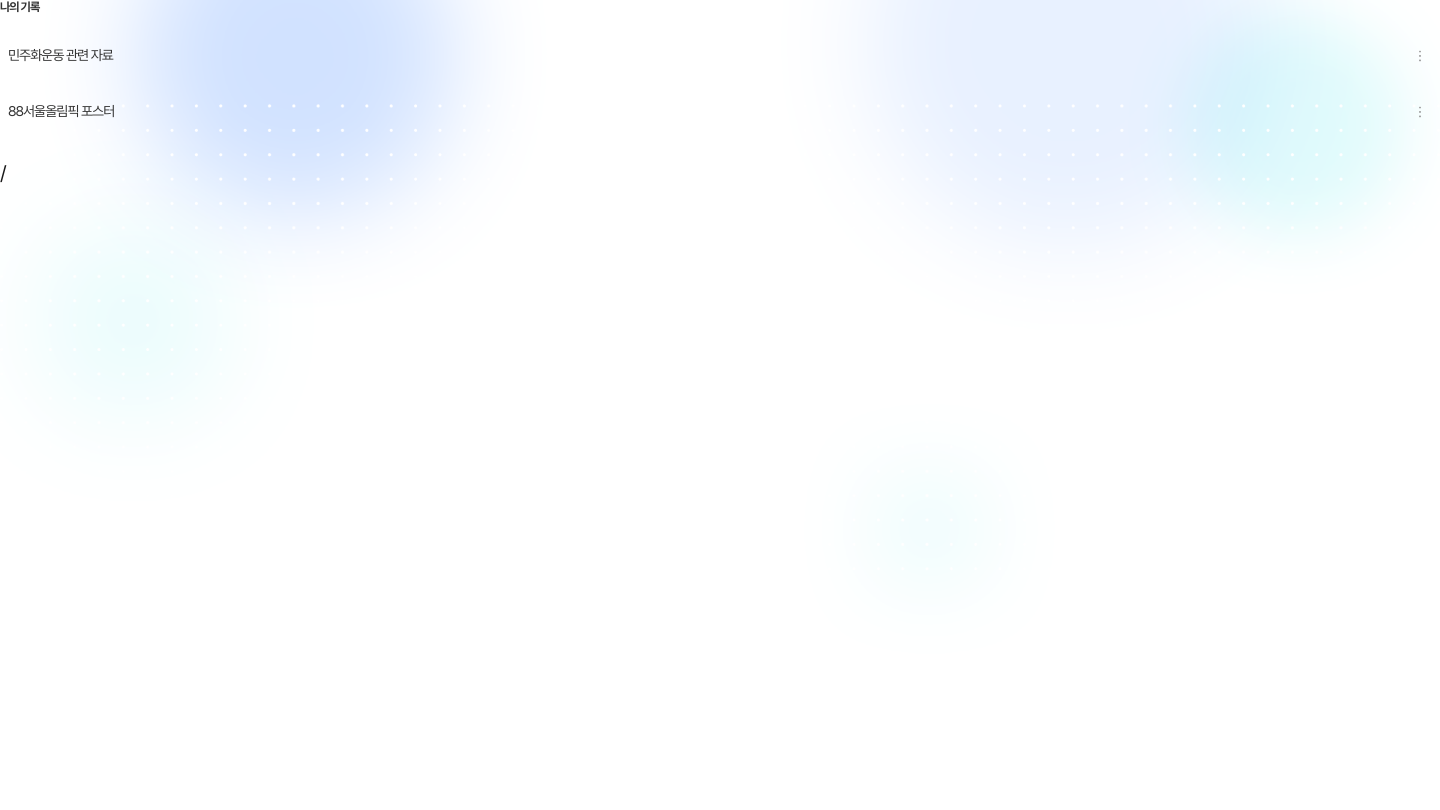
(c) 케밥 '라이브러리 저장' 클릭 시 저장 모달이 열린다(round10 — 더는 준비중 스텁이 아니다)
Expected: the text "민주화운동 관련 자료" is shown, [8,47,113,63]
What coordinates should you click on to do the following:
click the 1st button named "더보기"
I would click on:
 (1420, 56)
Its box is [1408,44,1432,68].
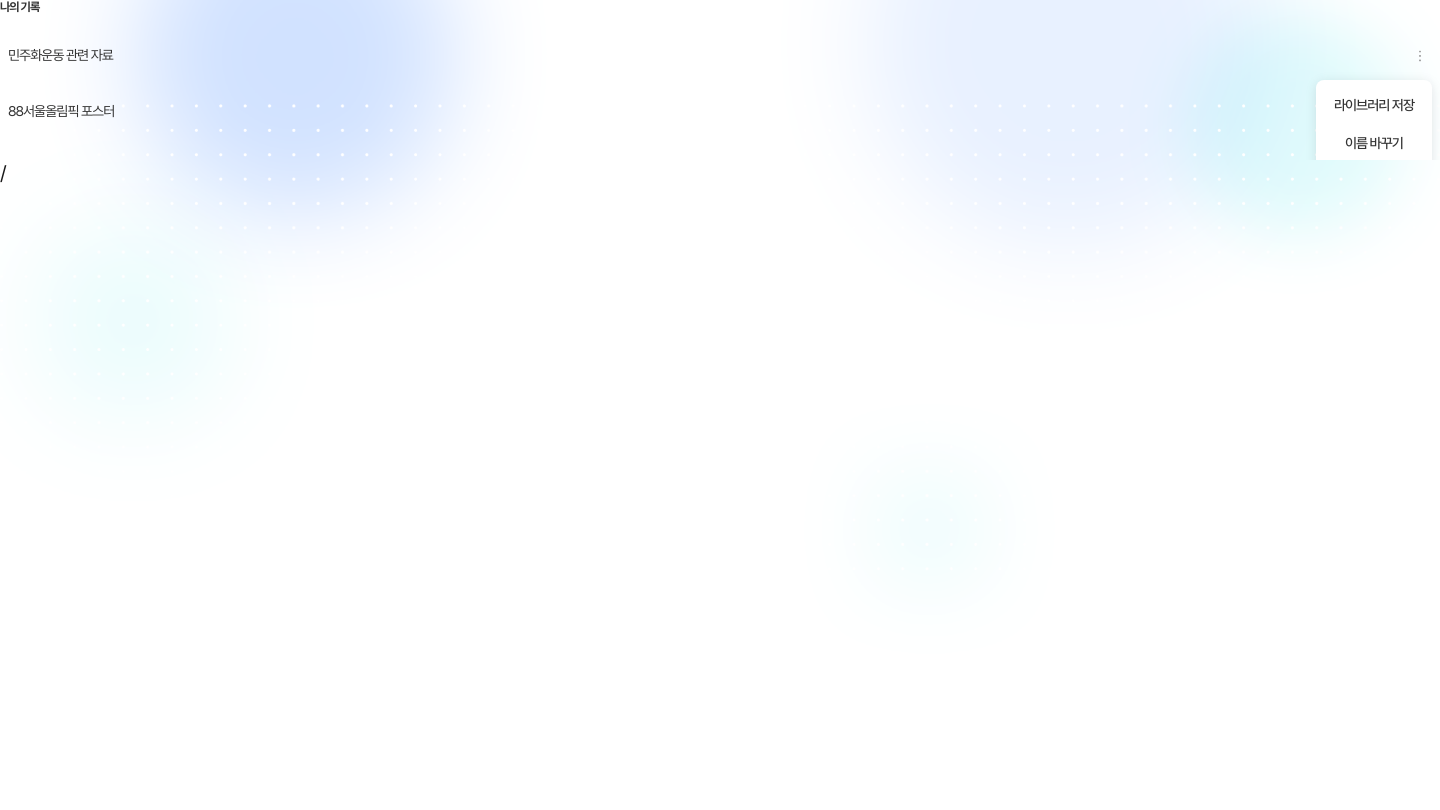
What coordinates should you click on to do the following:
click the menu item "라이브러리 저장"
I would click on:
 (1374, 105)
Its box is [1324,88,1424,122].
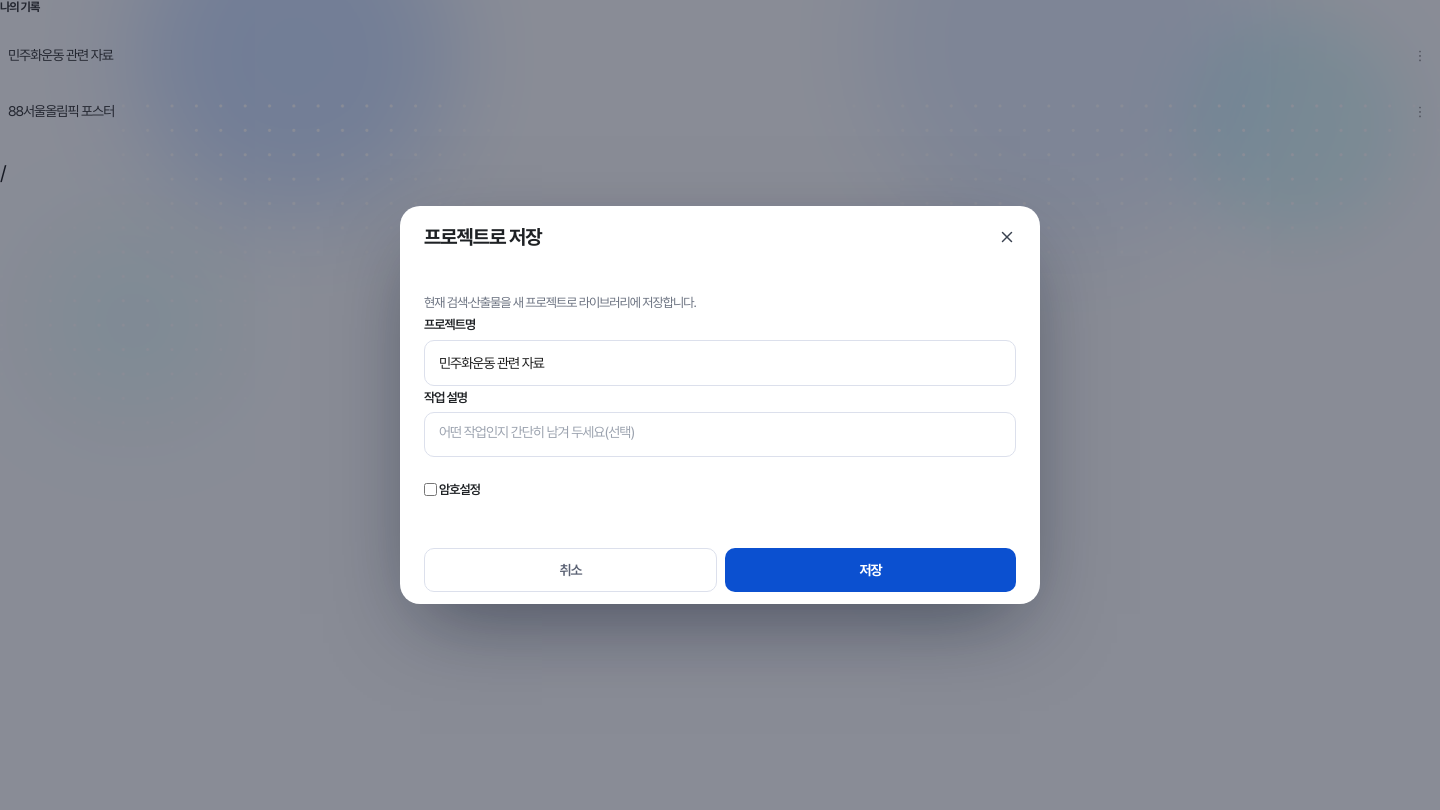
Expected: the menu item "삭제" is not shown
Expected: the button "저장" is shown, [725,548,1016,592]
